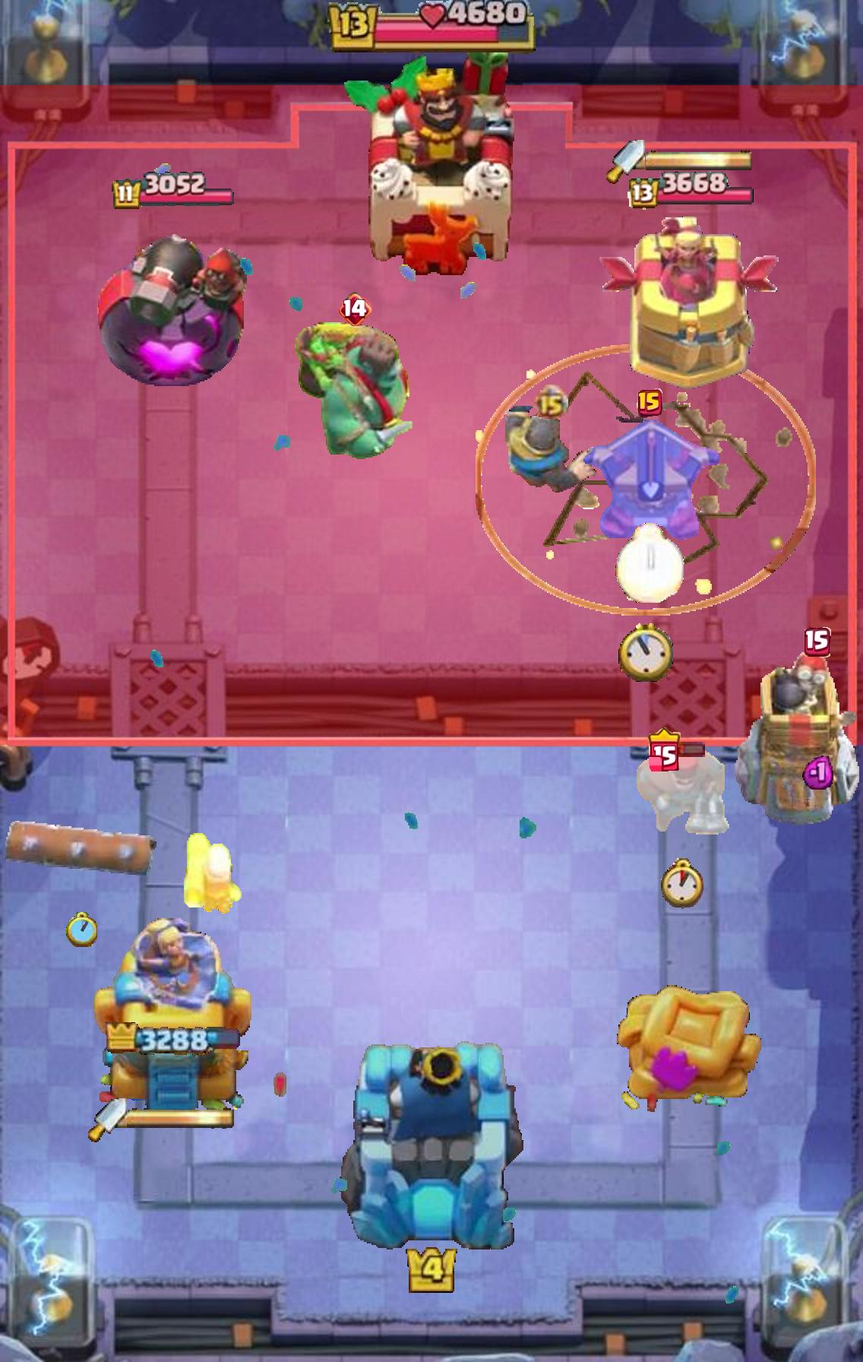bar: (677, 741, 706, 758)
bar-level: (648, 727, 680, 771), (339, 291, 372, 326), (804, 627, 831, 657), (637, 388, 662, 417)
